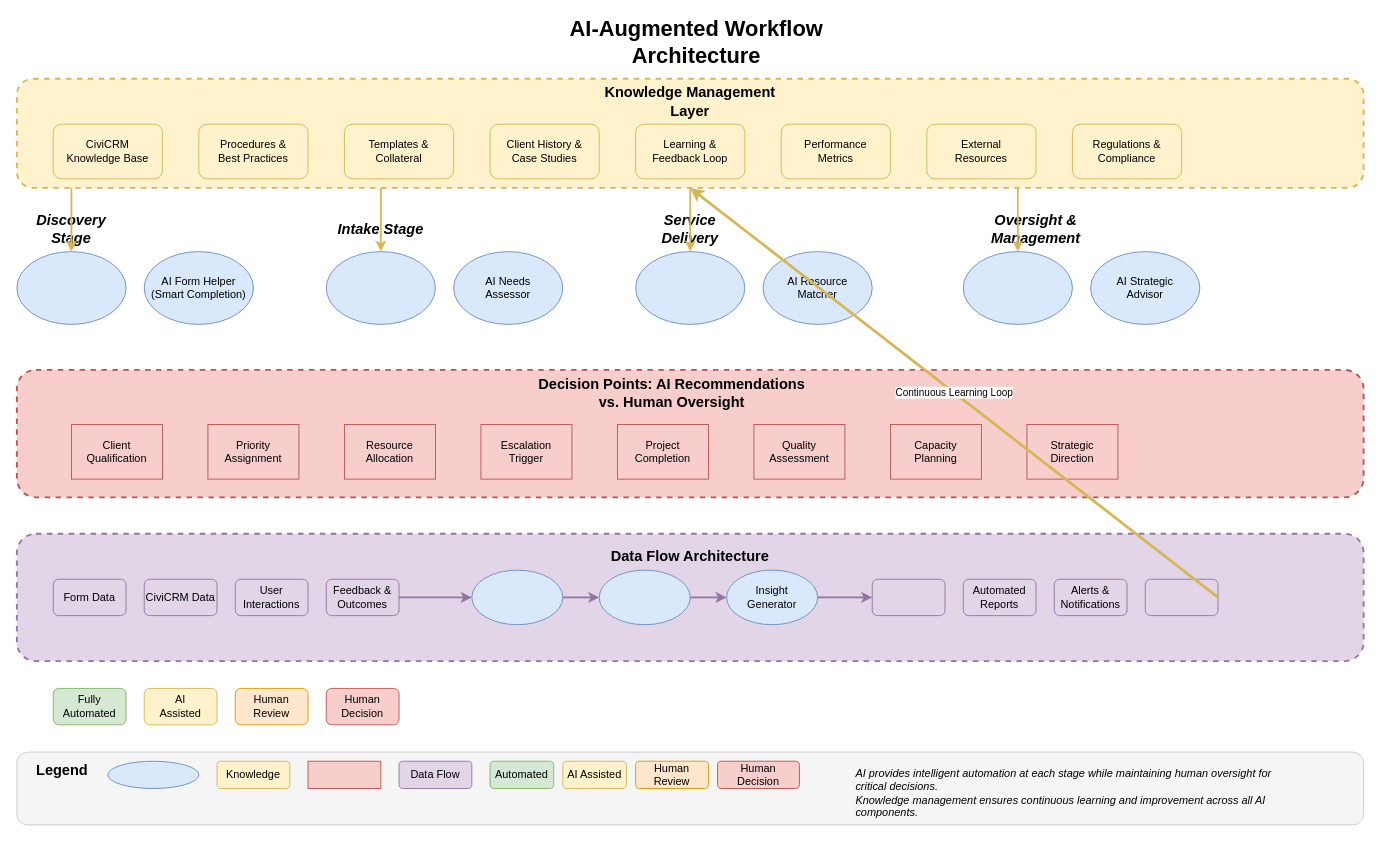
This 1380x841 diagram has some shape labels left out. The box of each missing label's shape, as (x1, y1, x2, y2) in pixels:
AI Components: (107, 760, 199, 789)
AI Data Processor: (471, 569, 563, 625)
AI Intake Processor: (325, 251, 435, 324)
AI Performance Analyst: (962, 251, 1072, 324)
AI Project Manager: (635, 251, 745, 324)
AI Recommendations: (871, 578, 945, 616)
AI Web Chat (Prospect Support): (16, 251, 126, 324)
Dashboard Updates: (1144, 578, 1218, 616)
Decision Point: (307, 760, 381, 789)
ML Training Engine: (598, 569, 690, 625)
